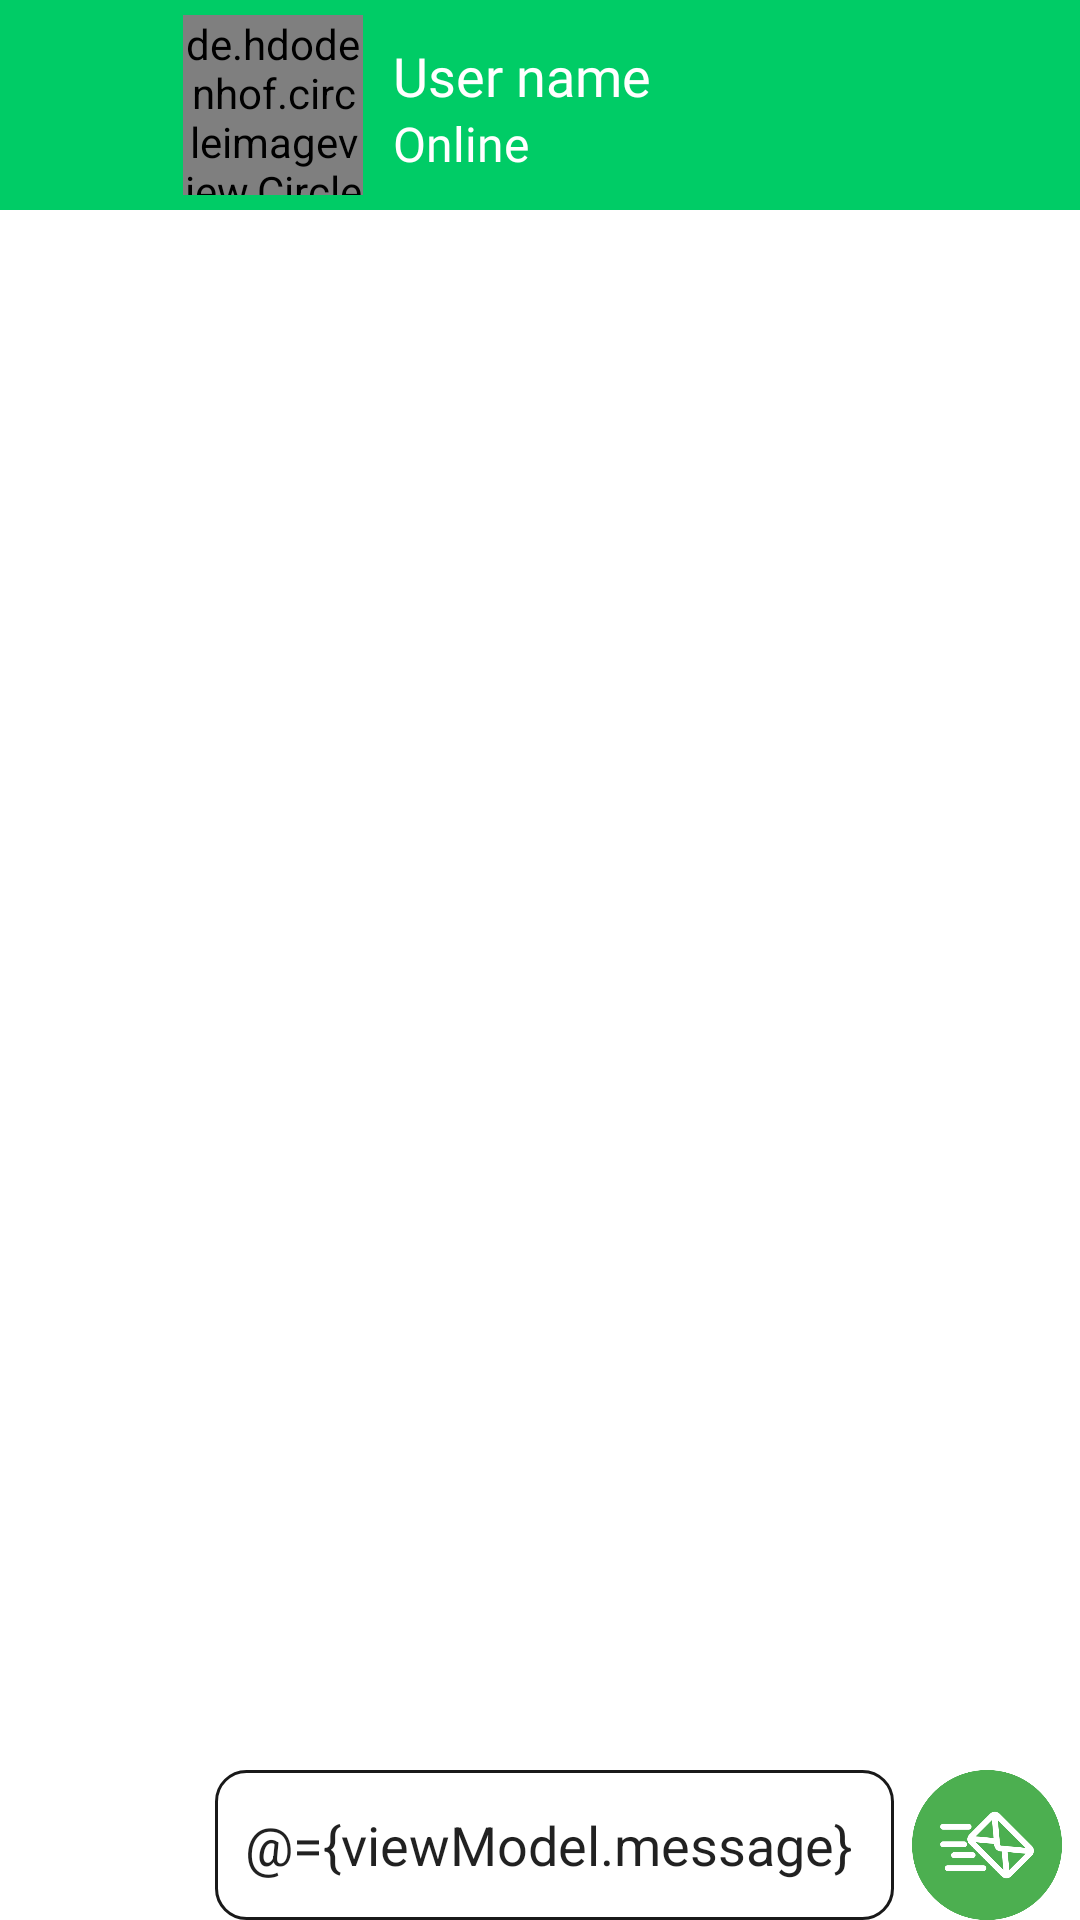

Icons on this 1080*1920 Android screen, each with its box as (x1, y1, x2, y2):
send: (912, 1770, 1062, 1920)
